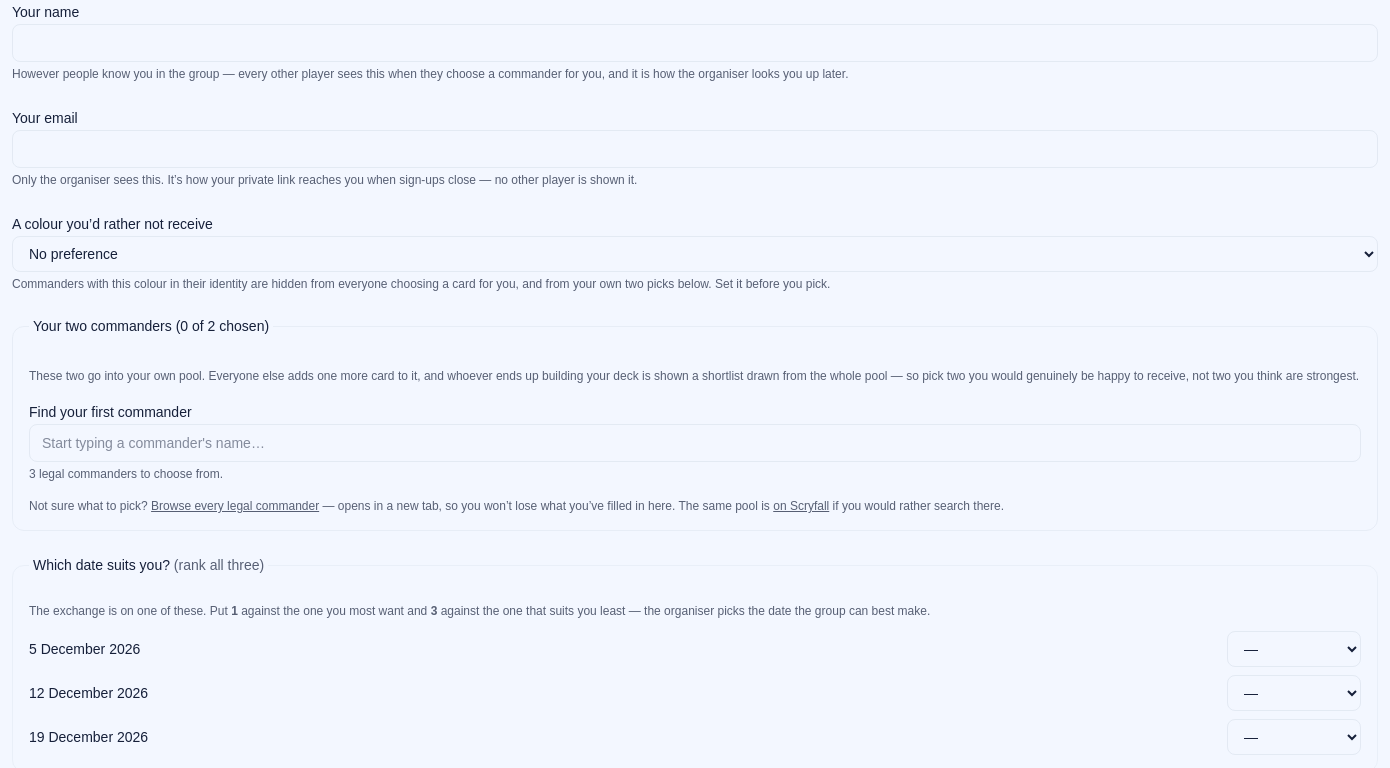
it: SignupForm › offers every legal commander before anything is typed
Click the dropdown labelled "Find your first commander" at (695, 443), box [29,424,1361,462]
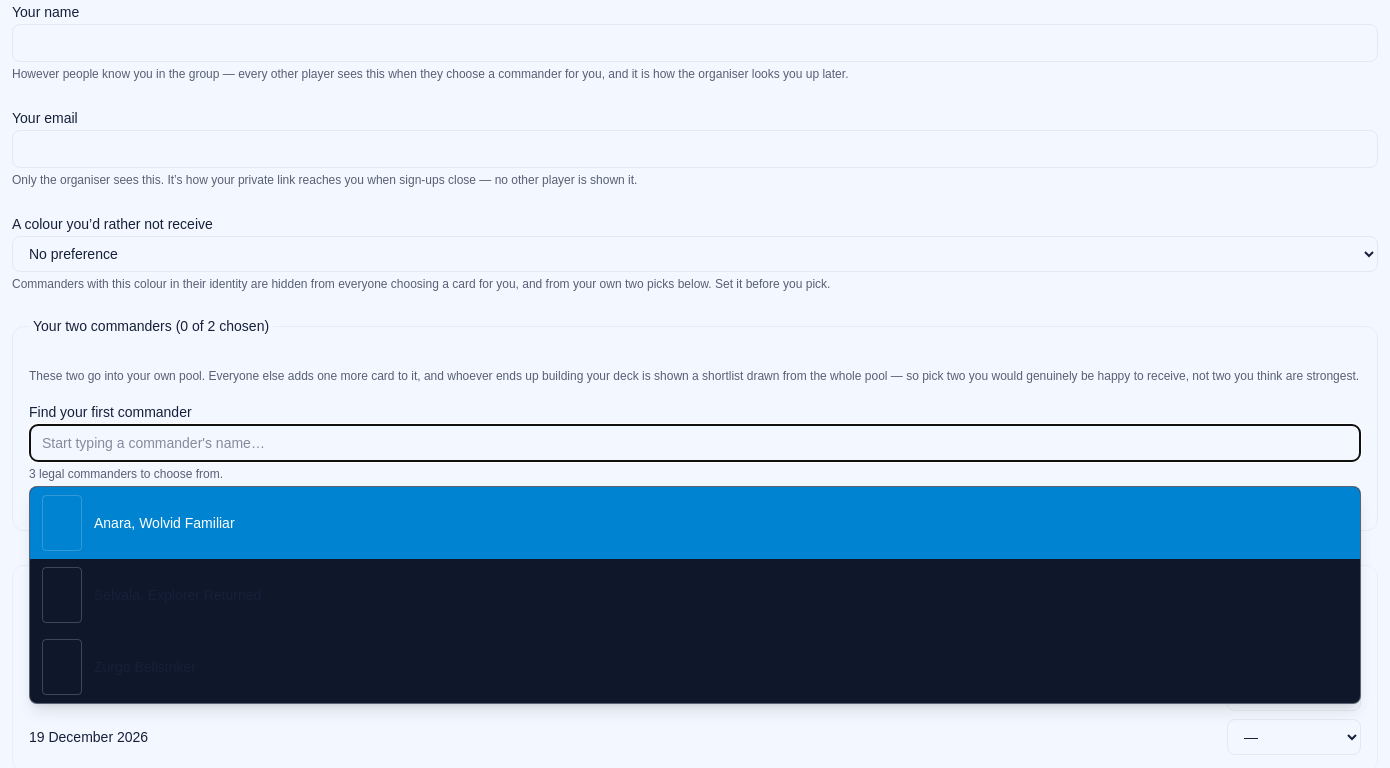
Check: the number of options is 3, box [30,487,1360,559]; [42,567,261,623]; [42,639,196,695]
